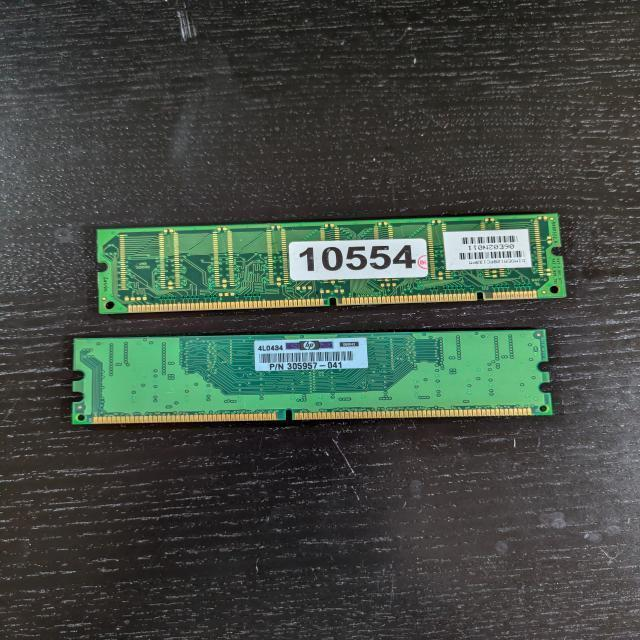RAM: (96, 212, 569, 314), (71, 328, 552, 426)
